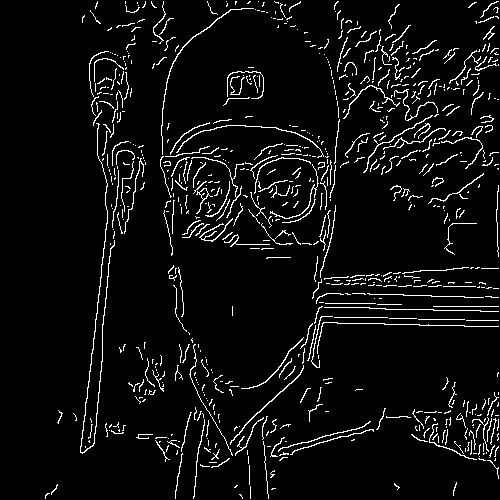mask: (170, 237, 320, 387)
